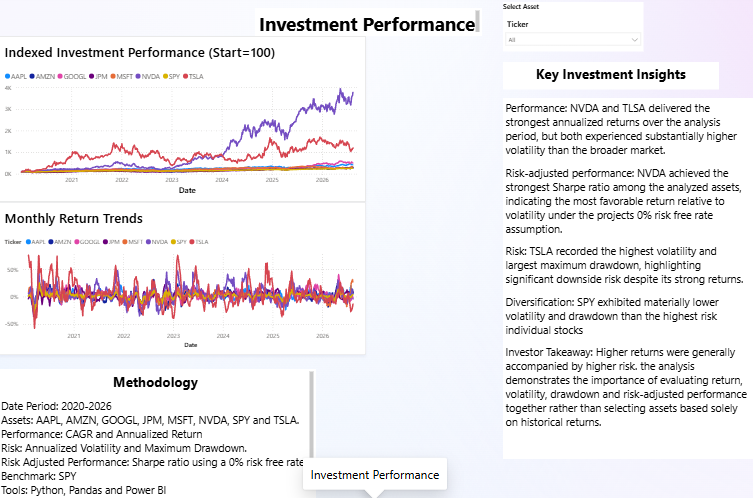

The page's visual inventory and layout, read from the dashboard file:
{"tool":"powerbi","page":{"name":"Investment Performance","canvas":[1510,1000],"ordinal":2},"visuals":[{"type":"lineChart","title":"Indexed Investment Performance (Start=100)","fields":{"Y":["stock_market_master.Indexed Performance"],"Category":["stock_market_master.Date"],"Series":["stock_market_master.Ticker"]},"box":[0,74,736,332],"z":0},{"type":"lineChart","title":"Monthly Return Trends","fields":{"Y":["stock_market_master.Monthly Return%"],"Category":["stock_market_master.Date"],"Series":["stock_market_master.Ticker"]},"box":[0,406,736,306],"z":1000},{"type":"slicer","title":"Select Asset","fields":{"Values":["stock_market_master.Ticker"]},"box":[1010,6,280.5,99.1],"z":2000},{"type":"textbox","box":[1010,126,431.7,55.4],"z":3000},{"type":"textbox","box":[1010,198,500,722],"z":4000},{"type":"textbox","box":[0,740,636,260],"z":5000},{"type":"textbox","box":[514,18,454,56],"z":6000}]}

Visuals, with their boxes on the page's 1510x1000 design canvas (x1, y1, x2, y2). These are canvas units, not pixel positions in the 753x498 screenshot, which may show the page scaled, cropped or inside an application window:
"Indexed Investment Performance (Start=100)" lineChart: 0, 74, 736, 406
"Monthly Return Trends" lineChart: 0, 406, 736, 712
"Select Asset" slicer: 1010, 6, 1290, 105
textbox: 1010, 126, 1442, 181
textbox: 1010, 198, 1510, 920
textbox: 0, 740, 636, 1000
textbox: 514, 18, 968, 74
